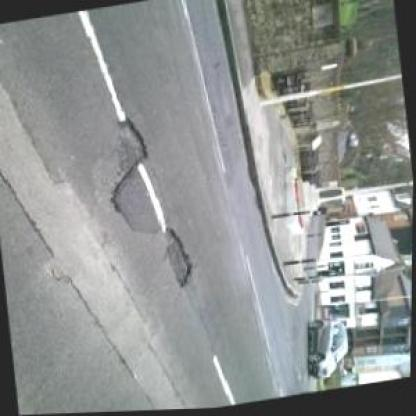pothole: (161, 229, 198, 292), (112, 115, 152, 173)
